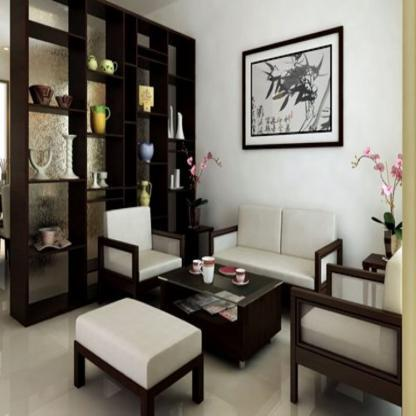gelas: (90, 104, 114, 135), (199, 256, 217, 284), (234, 268, 248, 284)
kursi: (207, 204, 348, 273), (95, 206, 184, 283)
lukisan: (240, 23, 347, 151)
meja: (160, 263, 289, 367)
sova: (294, 251, 407, 413)
